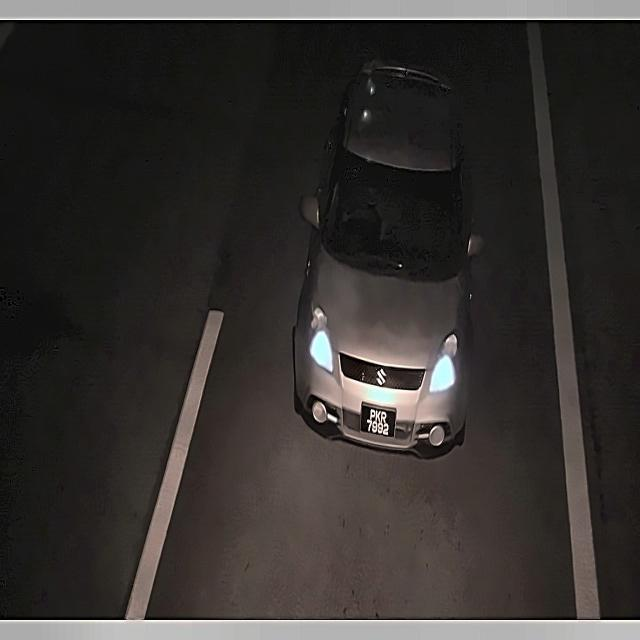car: (356, 400, 396, 443)
